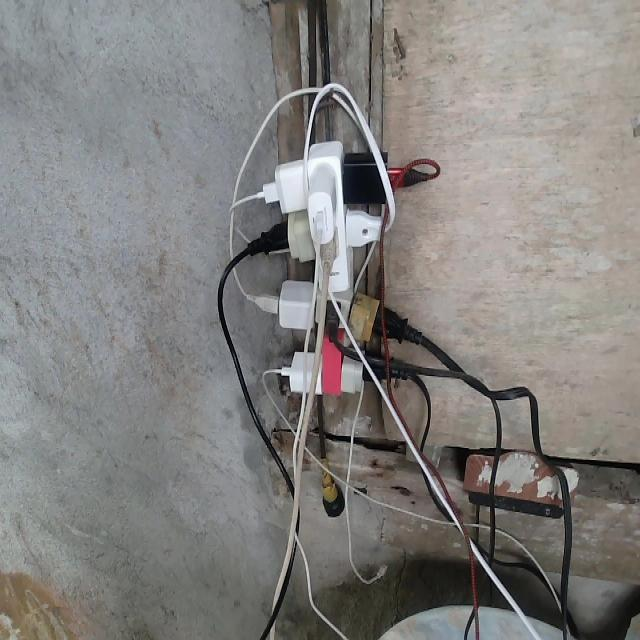-: (230, 138, 439, 390)
